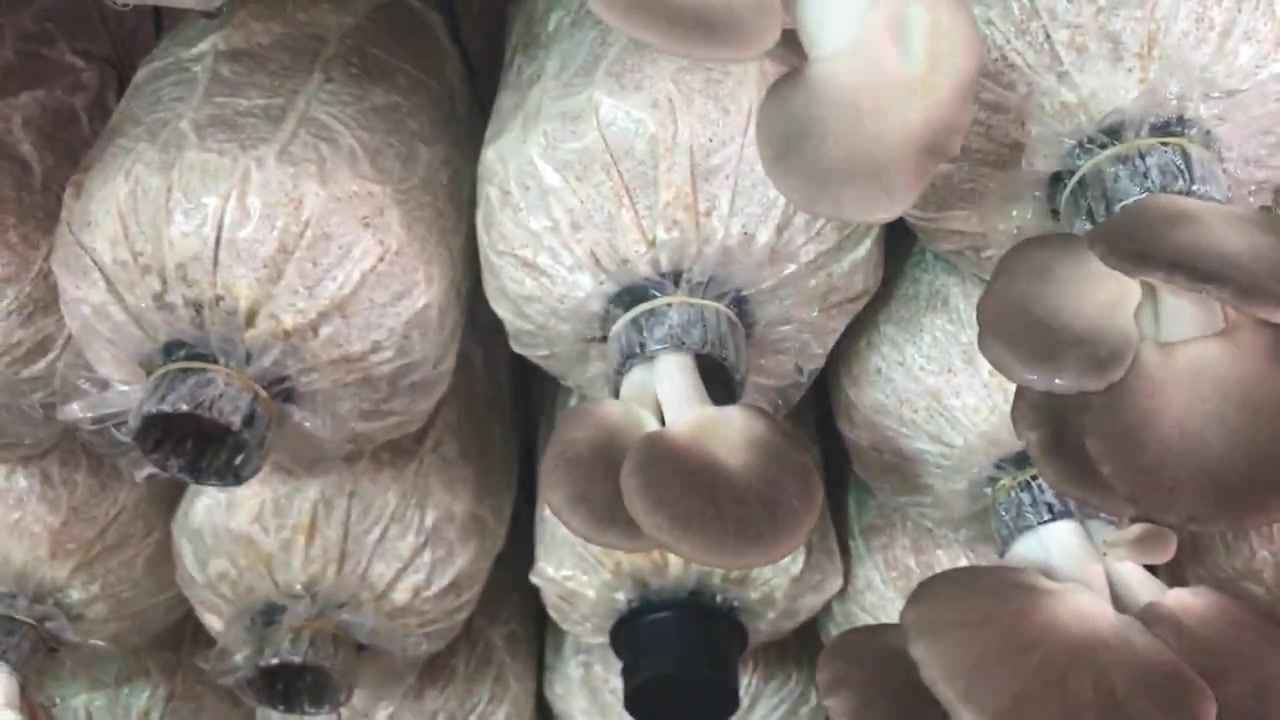nam: (813, 456, 1280, 718), (977, 143, 1280, 529), (590, 1, 986, 225), (542, 288, 827, 567)
